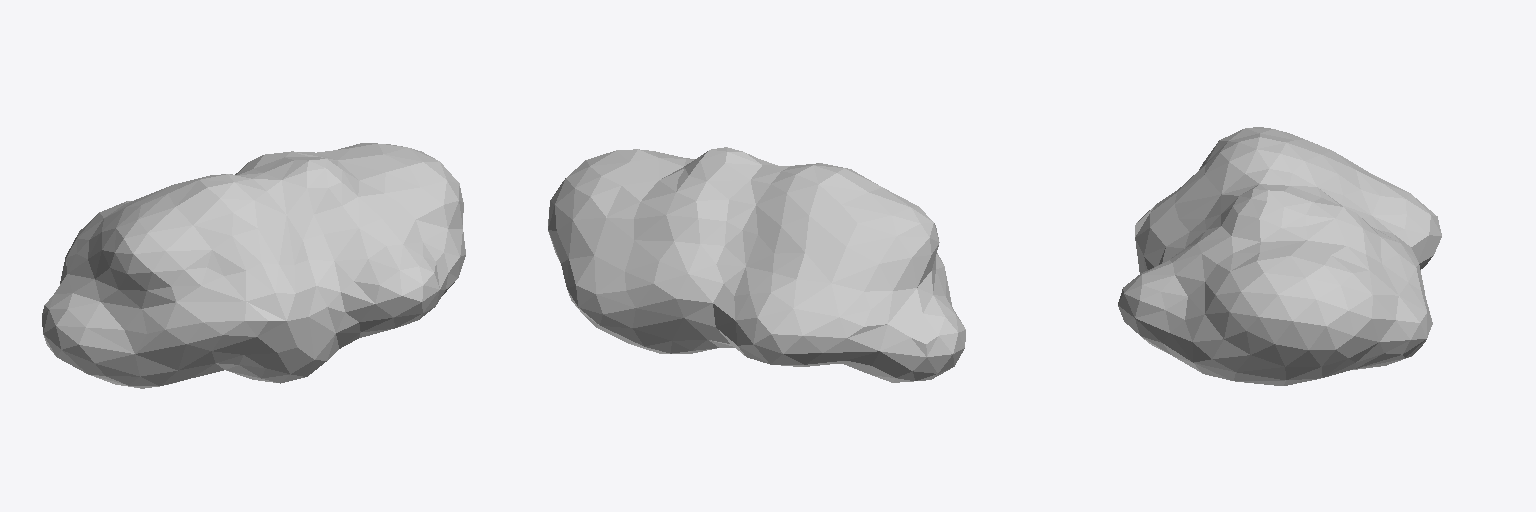
Rendered from cloud.obj.
The picture shows the model from 3 angles: view 1: azimuth 30°, elevation 25°; view 2: azimuth 150°, elevation 25°; view 3: azimuth 270°, elevation 25°; orthographic projection.
Parts seen in each view (by area): view 1: Mball.056_Mesh; view 2: Mball.056_Mesh; view 3: Mball.056_Mesh.
Boxes of the visible parts, x1,y1,x2,y2 form: Mball.056_Mesh: [42, 143, 465, 388]; Mball.056_Mesh: [548, 147, 965, 382]; Mball.056_Mesh: [1118, 127, 1441, 385].
Size of the model in its own units: 10.61 by 4.61 by 7.49.